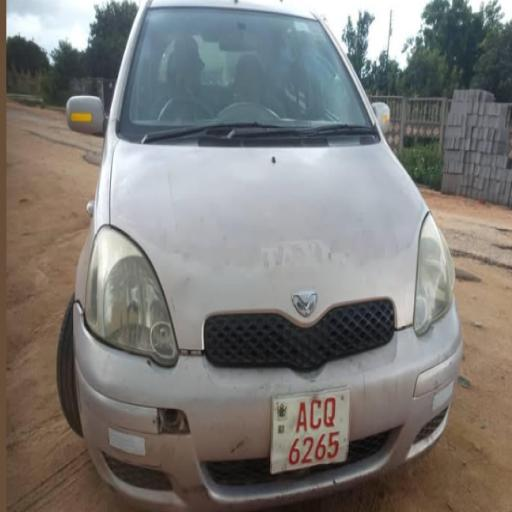number-plates: (270, 392, 343, 466)
